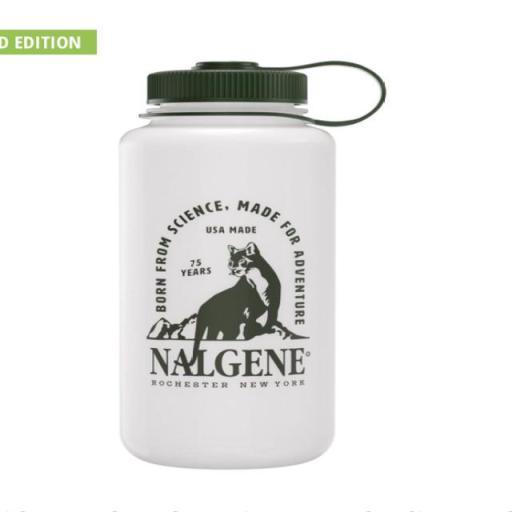bottle: (112, 56, 390, 470)
